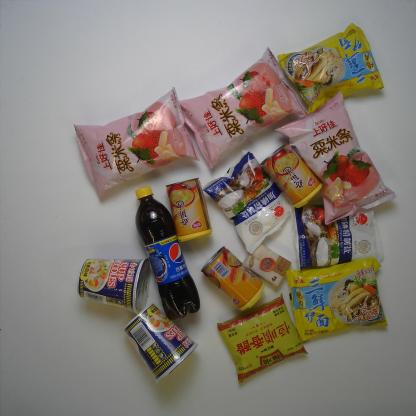Canned Food: (255, 138, 326, 213), (196, 247, 268, 318), (161, 170, 215, 244)
Drink: (129, 179, 202, 322)
Instant Noodles: (276, 23, 388, 118), (279, 256, 392, 346), (118, 302, 198, 386), (74, 249, 152, 316)
Puffed Food: (274, 89, 402, 228), (175, 46, 313, 174), (73, 86, 206, 202)
Seasoner: (198, 148, 295, 258), (216, 292, 312, 387), (286, 198, 390, 275)
Tissue: (239, 238, 294, 287)
